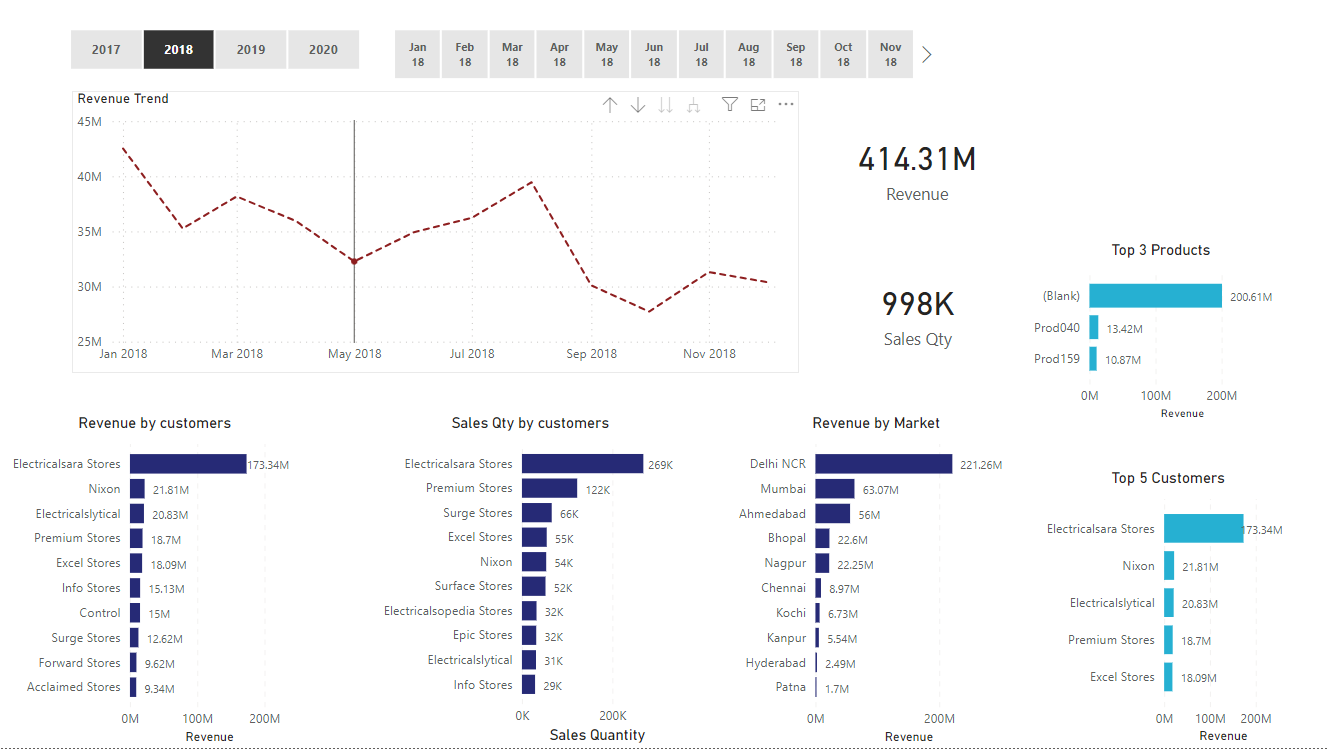

The page's visual inventory and layout, read from the dashboard file:
{"tool":"powerbi","page":{"name":"Page 1","canvas":[1280,720],"ordinal":0},"visuals":[{"type":"card","fields":{"Values":["BaseMeasures.Revenue"]},"box":[802.8,100.1,162.3,124.4],"z":0},{"type":"card","fields":{"Values":["BaseMeasures.Sales Qty"]},"box":[815.4,241,138,118.6],"z":1000},{"type":"clusteredBarChart","title":"Revenue by customers","fields":{"Y":["BaseMeasures.Revenue"],"Category":["public customers.customer_name"]},"box":[0,399.4,301.3,320.6],"z":2000},{"type":"clusteredBarChart","title":"Sales Qty by customers","fields":{"Y":["BaseMeasures.Sales Qty"],"Category":["public customers.customer_name"]},"box":[355.7,399.5,312,320.7],"z":3000},{"type":"slicer","fields":{"Values":["public date.year"]},"box":[44.7,23.3,326.6,50.5],"z":4000},{"type":"slicer","title":"Month","fields":{"Values":["public date.cy_date"]},"box":[355.7,23.3,548.2,60.3],"z":5000},{"type":"clusteredBarChart","title":"Revenue by Market","fields":{"Y":["BaseMeasures.Revenue"],"Category":["public markets.markets_name"]},"box":[701.7,399.5,284.8,320.7],"z":6000},{"type":"clusteredBarChart","title":"Top 5 Customers","fields":{"Y":["BaseMeasures.Revenue"],"Category":["public customers.customer_name"]},"box":[976.8,451.9,261.4,268.2],"z":6001},{"type":"clusteredBarChart","title":"Top 3 Products","fields":{"Y":["BaseMeasures.Revenue"],"Category":["public products.product_code"]},"box":[986.5,232.3,263.4,175.9],"z":6002},{"type":"lineChart","title":"Revenue Trend","fields":{"Y":["BaseMeasures.Revenue"],"Category":["public date.cy_date.Variation.Date Hierarchy.Year","public date.cy_date.Variation.Date Hierarchy.Quarter","public date.cy_date.Variation.Date Hierarchy.Month","public date.cy_date.Variation.Date Hierarchy.Day"]},"box":[70.9,88.4,698.8,271.2],"z":6003}]}

Visuals, with their boxes in screenshot pixels (x1, y1, x2, y2), scaled from the page's 1280x720 canvas onto the 1327x749 screenshot:
card - BaseMeasures.Revenue: x1=832, y1=104, x2=1001, y2=234
card - BaseMeasures.Sales Qty: x1=845, y1=251, x2=988, y2=374
"Revenue by customers" clusteredBarChart: x1=0, y1=415, x2=312, y2=748
"Sales Qty by customers" clusteredBarChart: x1=369, y1=416, x2=692, y2=748
slicer - public date.year: x1=46, y1=24, x2=385, y2=77
"Month" slicer: x1=369, y1=24, x2=937, y2=87
"Revenue by Market" clusteredBarChart: x1=727, y1=416, x2=1023, y2=748
"Top 5 Customers" clusteredBarChart: x1=1013, y1=470, x2=1284, y2=748
"Top 3 Products" clusteredBarChart: x1=1023, y1=242, x2=1296, y2=425
"Revenue Trend" lineChart: x1=74, y1=92, x2=798, y2=374
